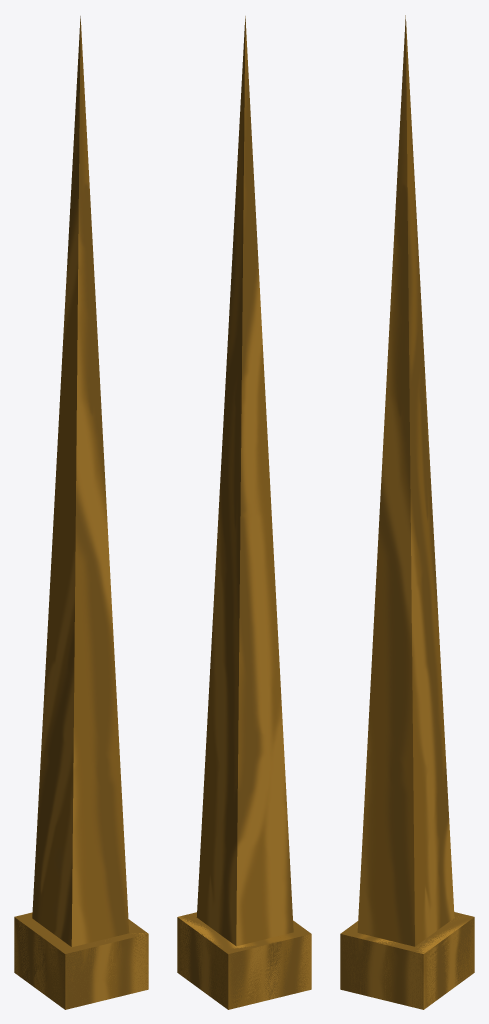
File: shiv3 (1).fbx
3 views of the same model, side by side, from view 1: azimuth 30°, elevation 25°; view 2: azimuth 210°, elevation 25°; view 3: azimuth 330°, elevation 25° (orthographic).
Visible parts, largest first — view 1: shiv3; view 2: shiv3; view 3: shiv3.
Part boxes in pixels (left/top/right/bottom): shiv3: left=14, top=16, right=148, bottom=1009; shiv3: left=177, top=16, right=311, bottom=1009; shiv3: left=340, top=15, right=474, bottom=1009.
Size of the model in its own units: 0.0672 by 0.7443 by 0.0711.
1 material, 1 textured.
